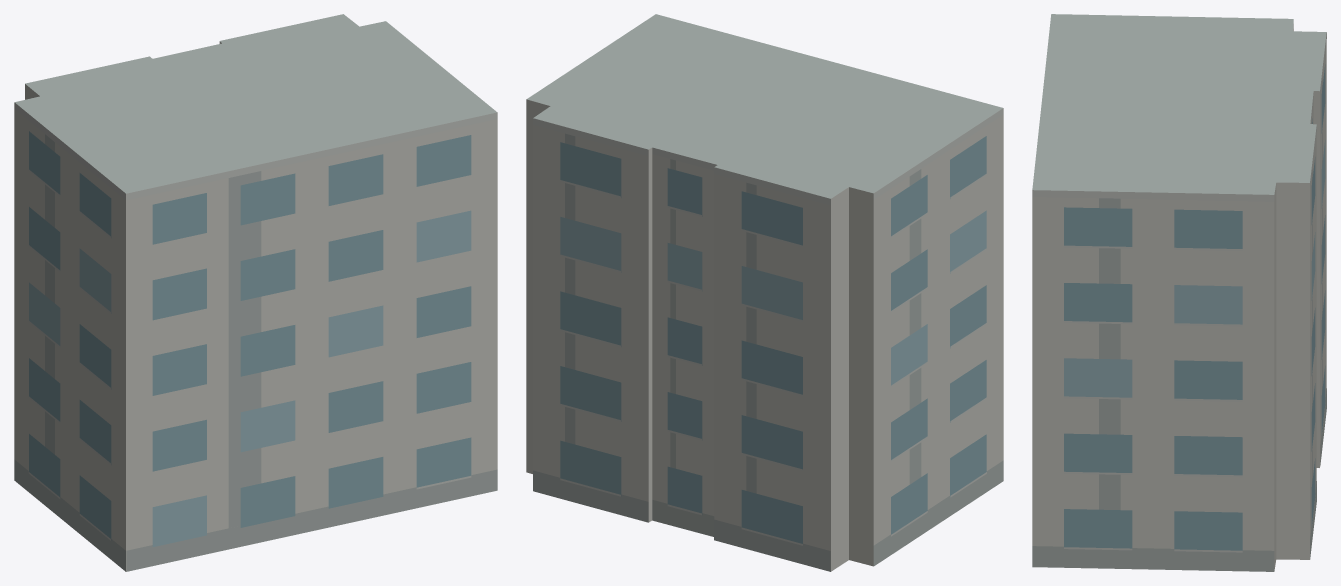
The model's file is survey-upis-32769138.glb.
3 renders of one model, left to right at view 1: azimuth 30°, elevation 25°; view 2: azimuth 150°, elevation 25°; view 3: azimuth 270°, elevation 25°, orthographic.
Visible parts, largest first — view 1: survey-upis-32769138.tmp; view 2: survey-upis-32769138.tmp; view 3: survey-upis-32769138.tmp.
Boxes of the visible parts, box(x1,y1,x2,y2) form: survey-upis-32769138.tmp: box(14, 14, 497, 571); survey-upis-32769138.tmp: box(526, 14, 1003, 571); survey-upis-32769138.tmp: box(1032, 14, 1326, 571).
Size of the model in its own units: 13.95 by 13.55 by 9.6.
